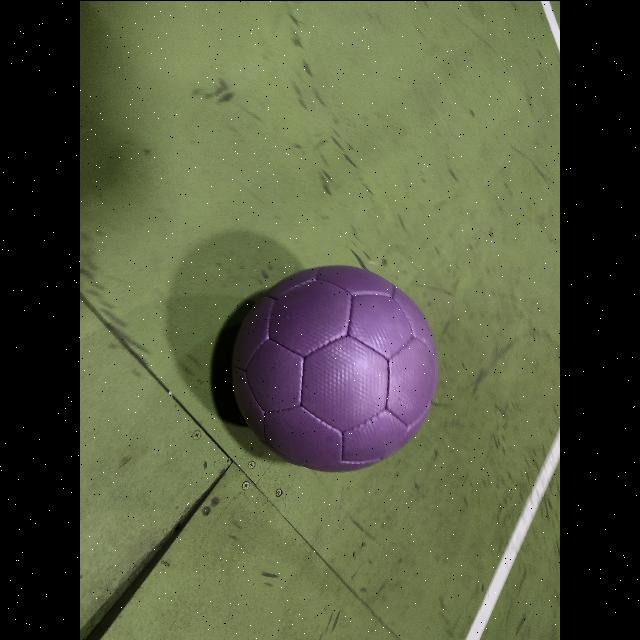P: (232, 266, 438, 470)
